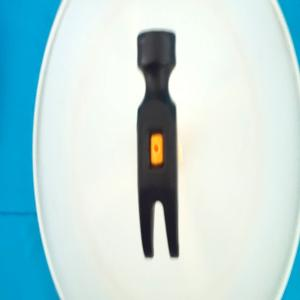martelo: (136, 28, 182, 262)
